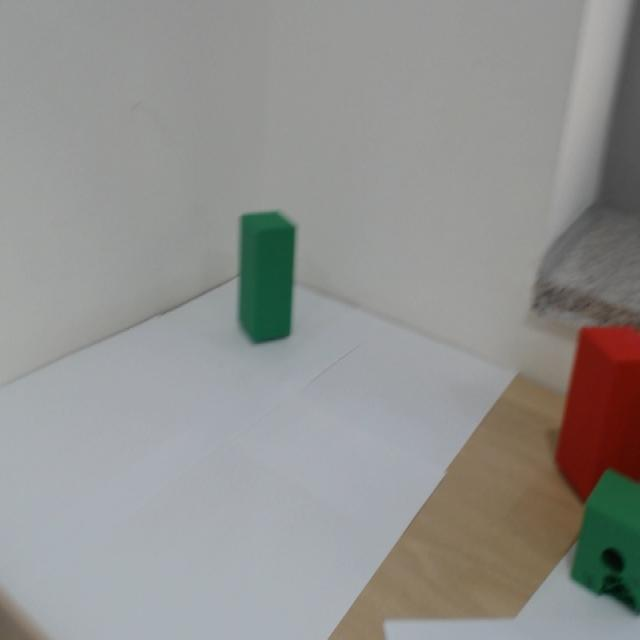cube: (208, 88, 316, 386)
